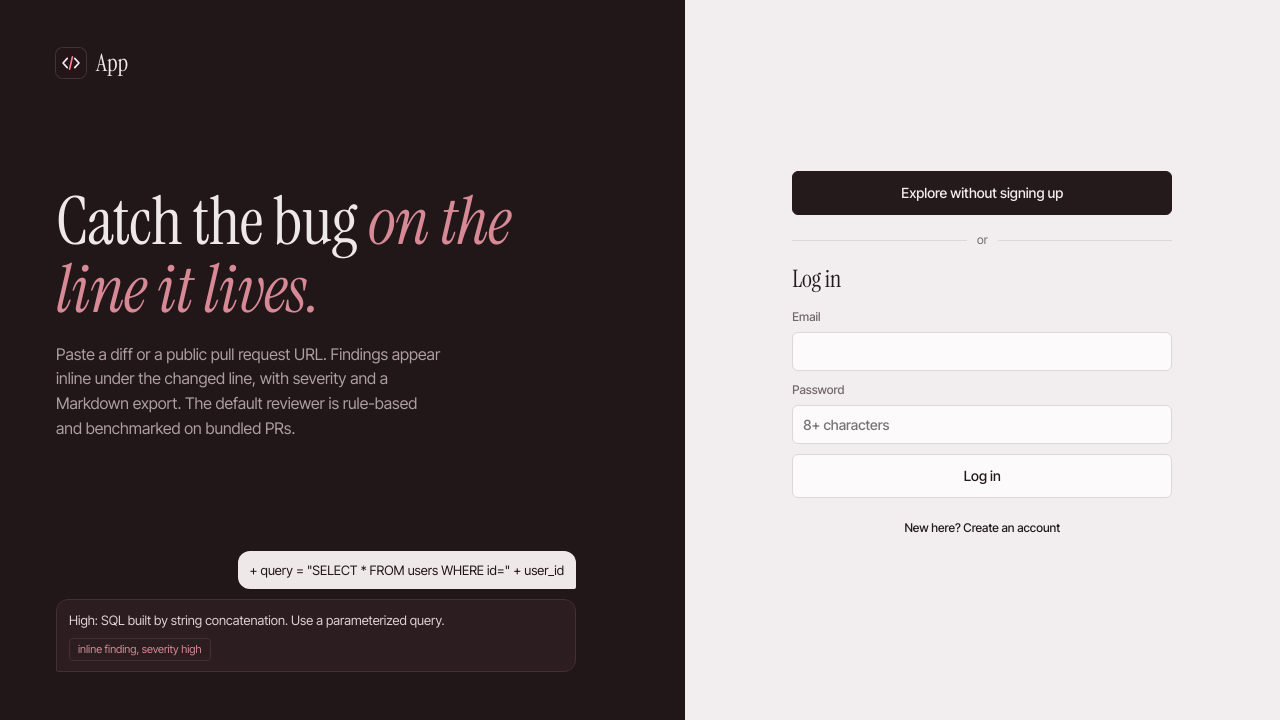
it: shows the server error on a failed login
In the field labelled "Email": x=982, y=351 [792,332,1172,371], type "a@b.co"
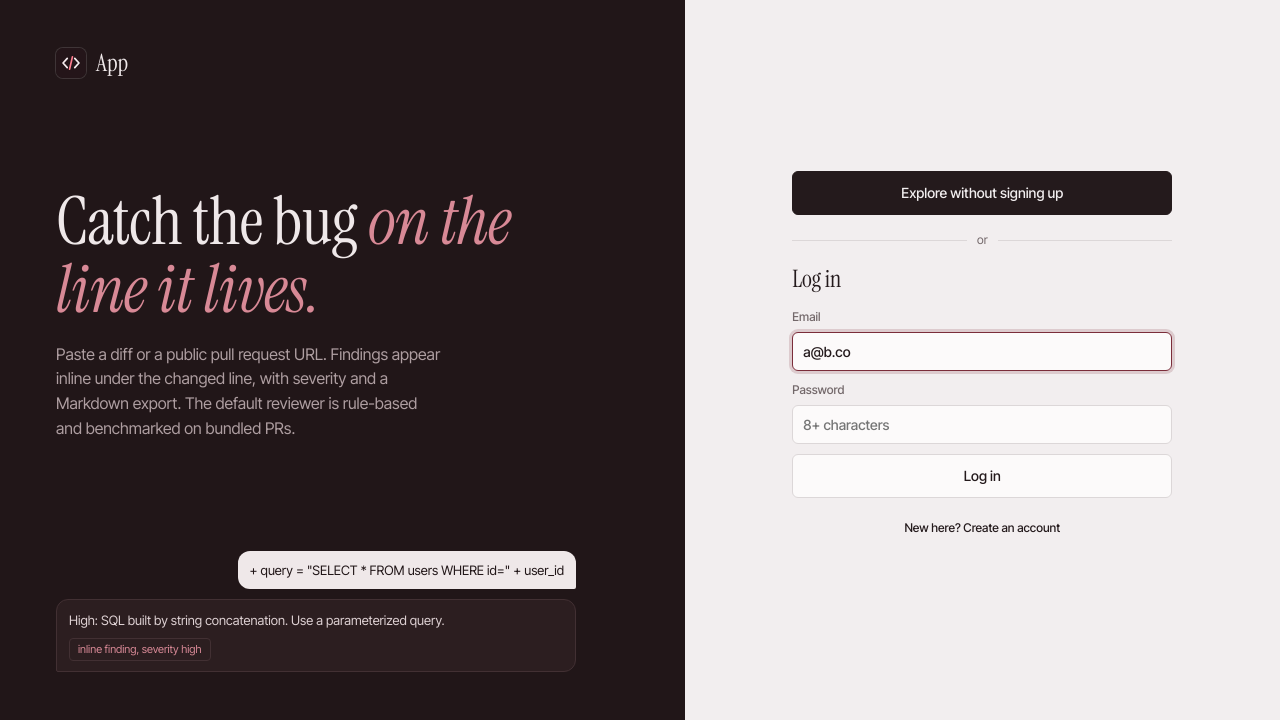
In the password field labelled "Password": x=982, y=425 [792,405,1172,444], type "whatever1"
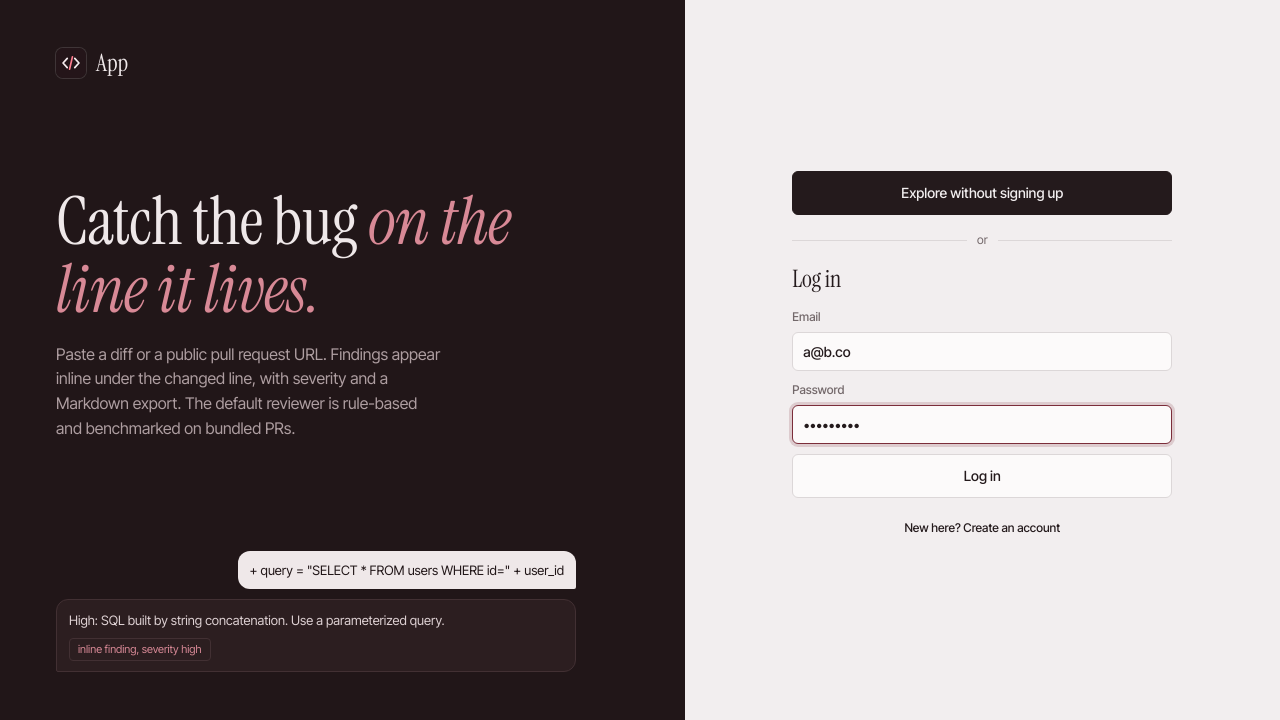
Click the button "Log in": x=982, y=476 [792,454,1172,498]
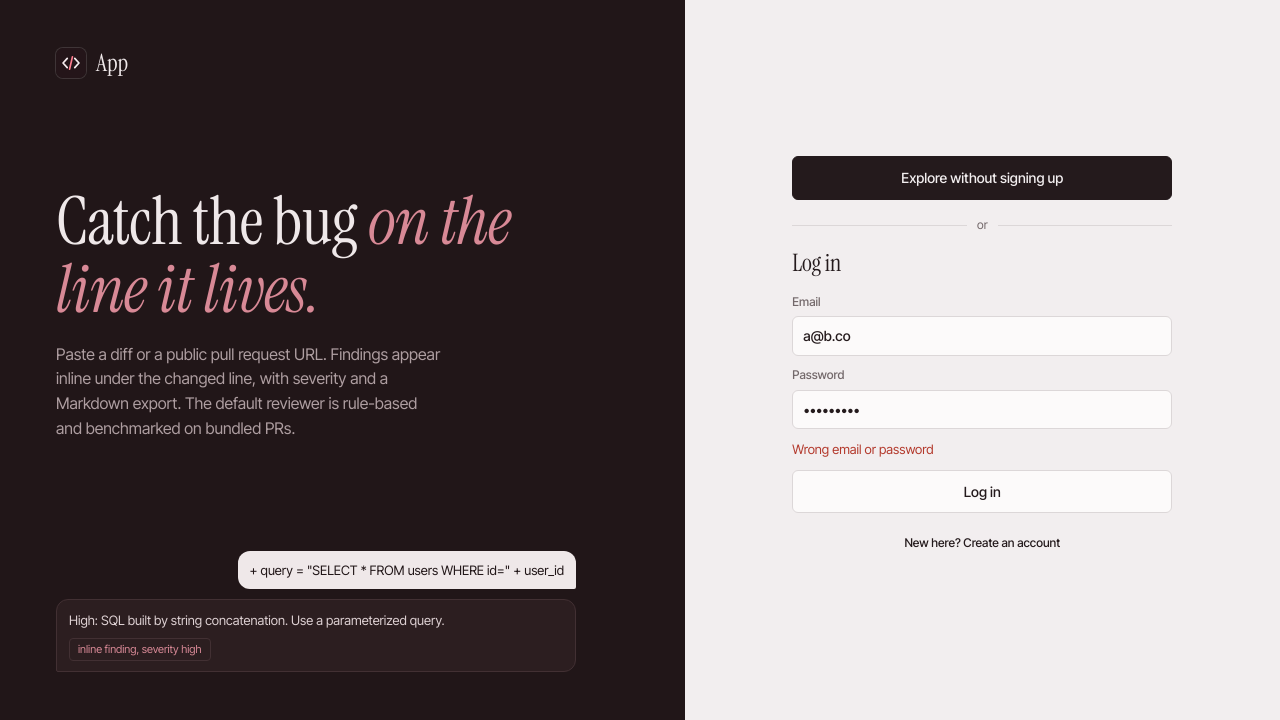
Expected: the message reads "Wrong email or password", [792,441,934,457]
